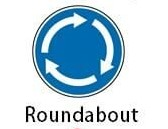Traffic signal: (27, 4, 127, 98)
